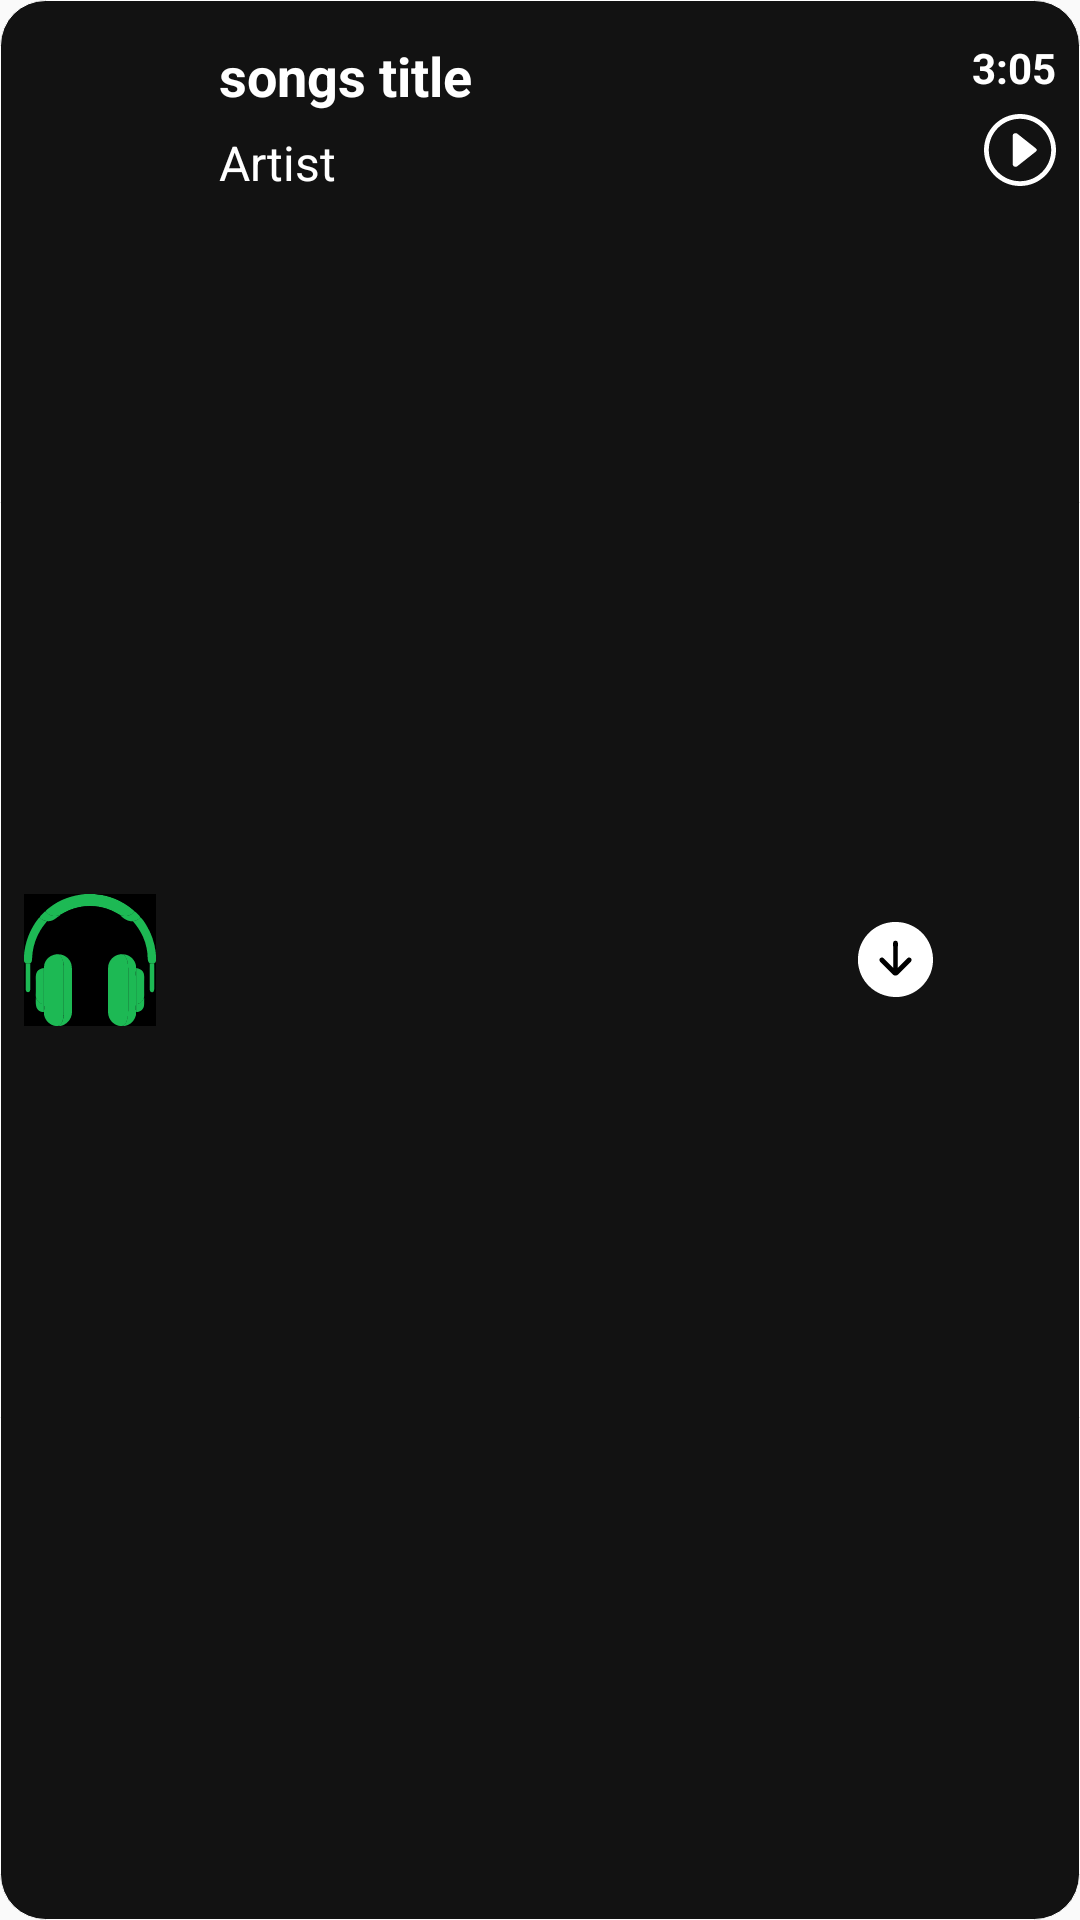

Icons on this 1080*1920 Android screen, each with its box as (x1, y1, x2, y2):
downloadvctr: (858, 922, 933, 997)
headphonesvctr: (24, 894, 156, 1026)
play: (984, 114, 1056, 186)
